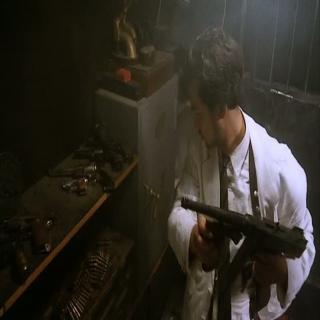gun: (181, 189, 296, 291)
